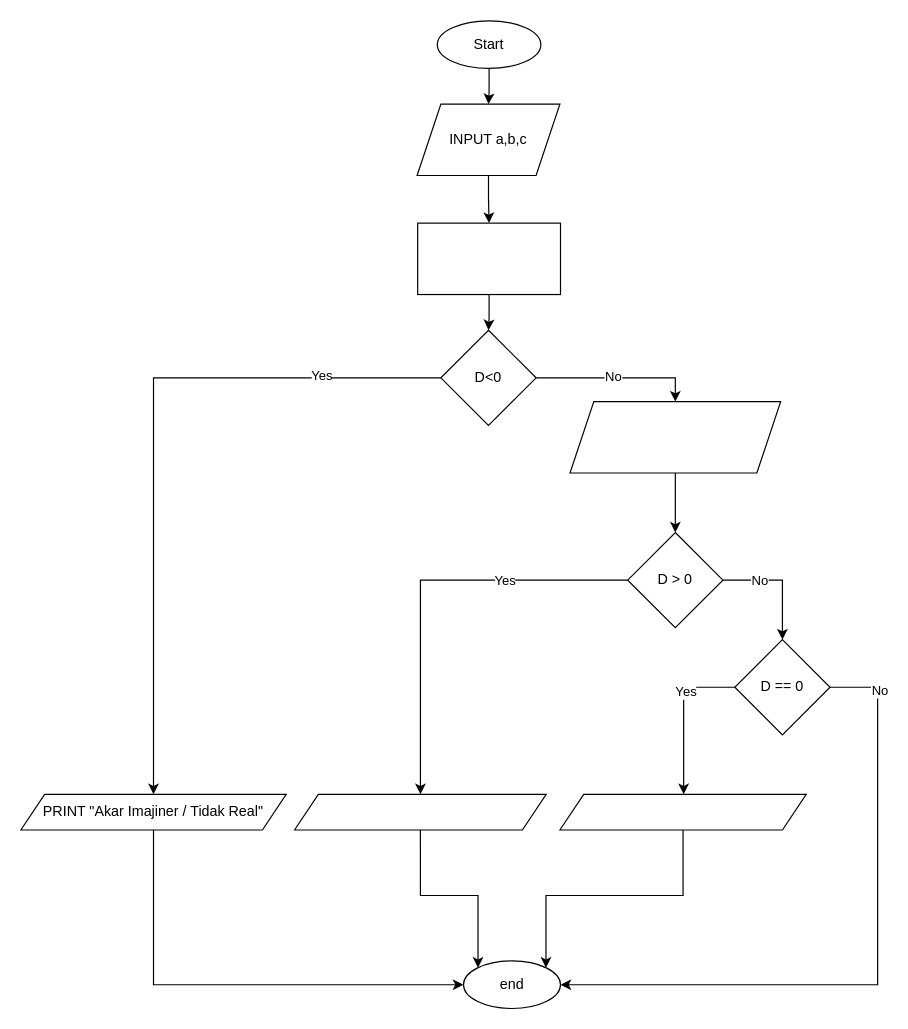
Some shapes in this 908 by 1029 pixel diagram are drawn without their labels. Each missing label, with the centre of its shape:
D = b**2 - 4*a*c: the point at 488,258
PRINT "Akar Real / Nyata": the point at 675,436
PRINT "Akar Real Dan Berlainan: the point at 419,811
PRINT "Akar Real Dan Kembar": the point at 682,811
